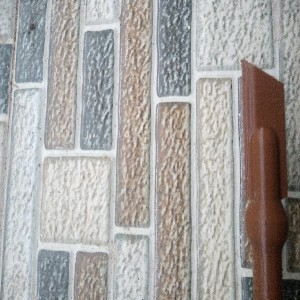cutter: (240, 56, 290, 300)
